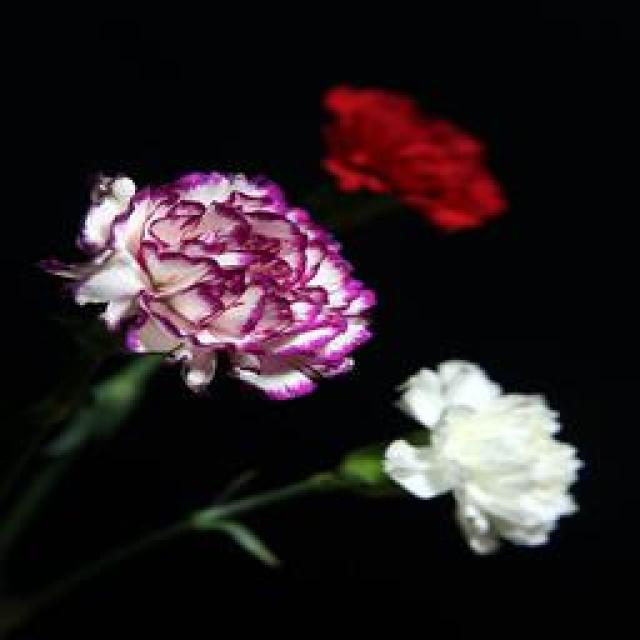carnation: (375, 340, 591, 602)
